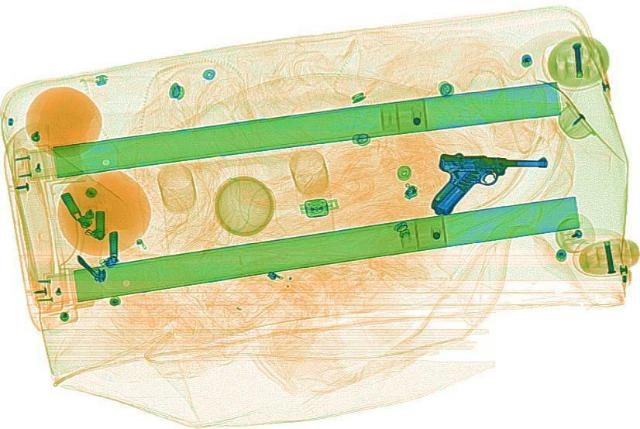Gun: (426, 151, 554, 216)
